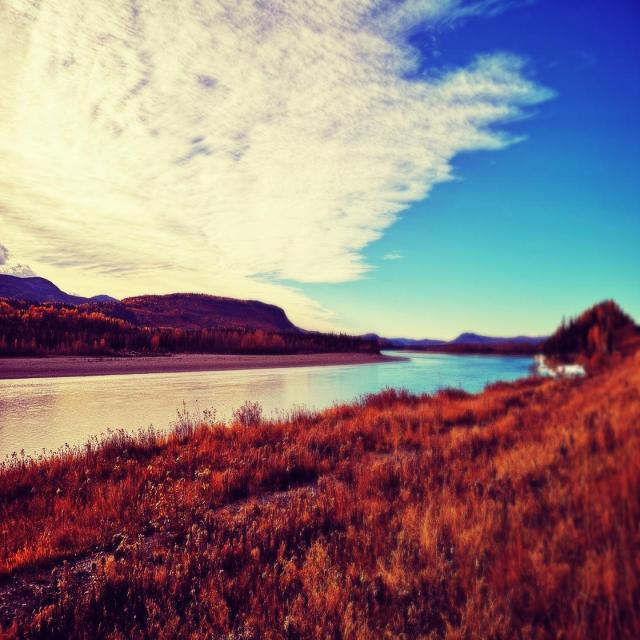airplane: (530, 353, 586, 379)
